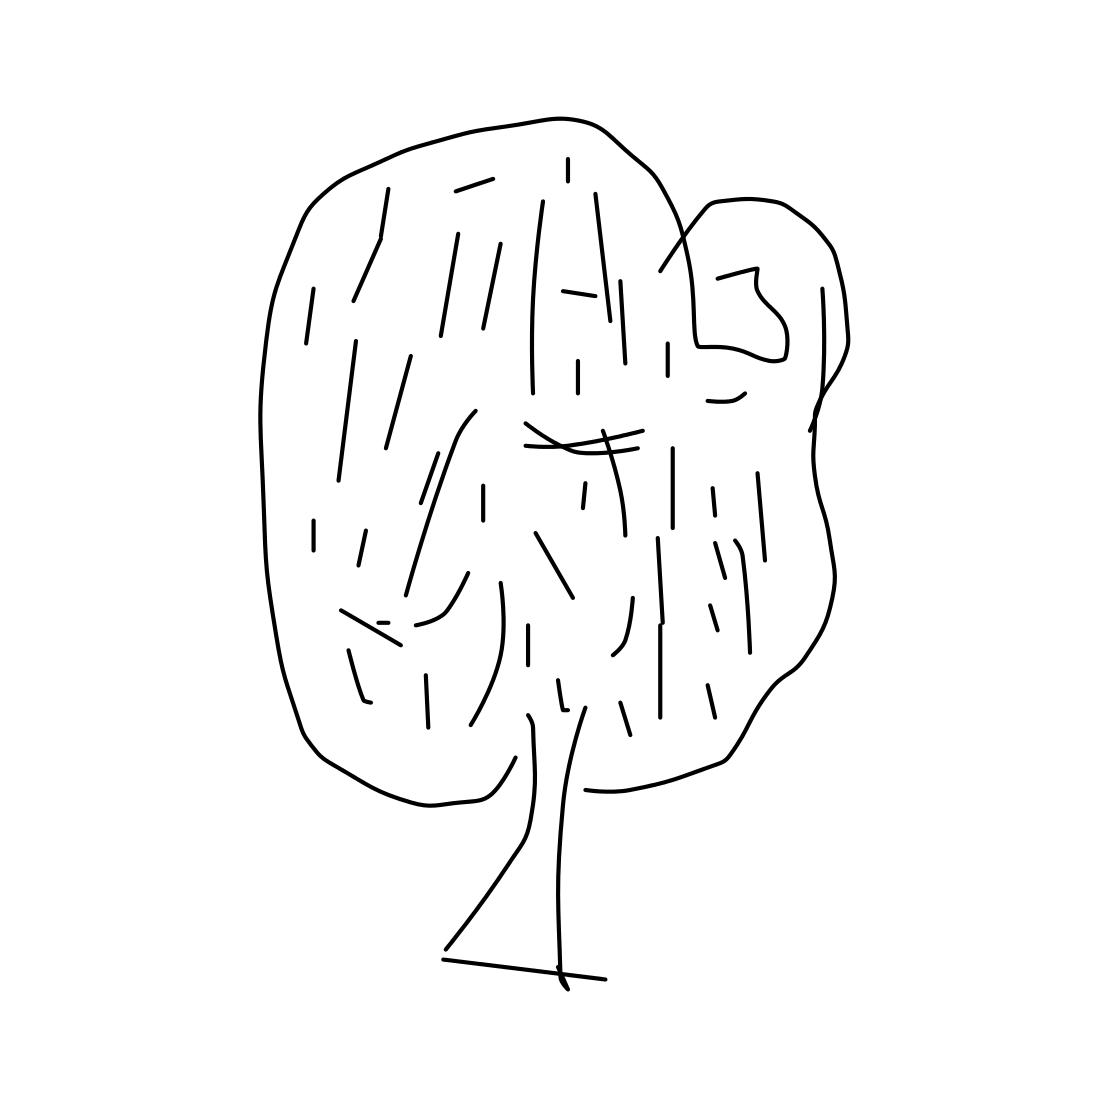Tree: (244, 78, 886, 998)
